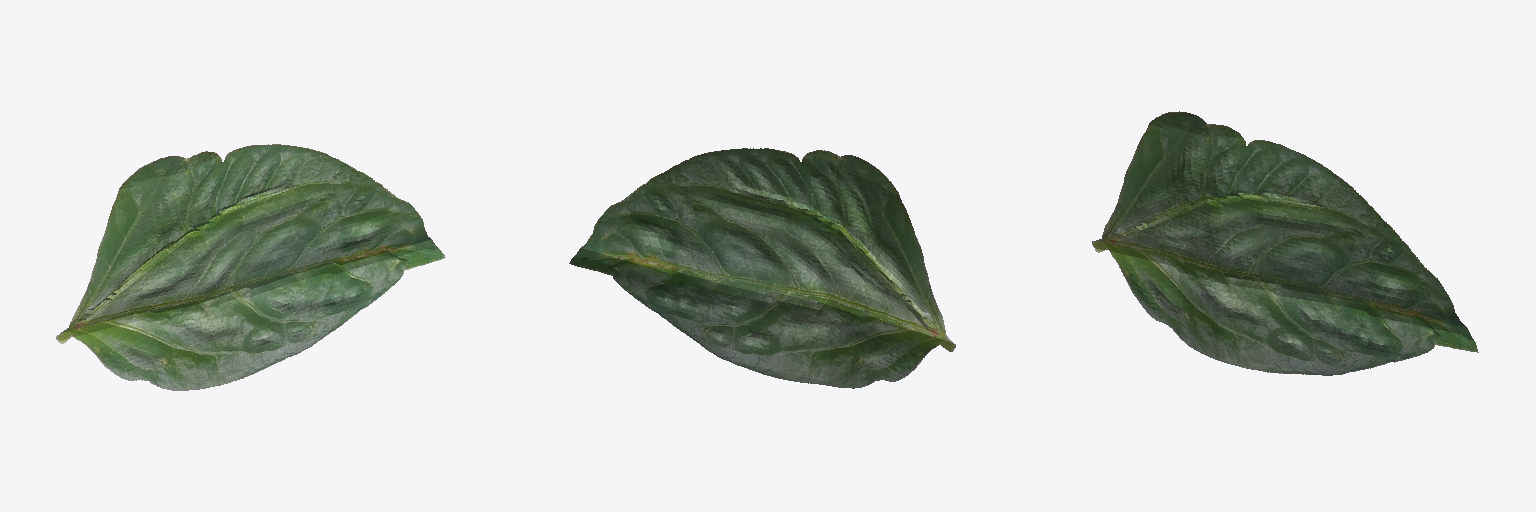
The picture shows the model from 3 angles: view 1: azimuth 30°, elevation 25°; view 2: azimuth 150°, elevation 25°; view 3: azimuth 330°, elevation 25°; orthographic projection.
Visible parts, largest first — view 1: leaf, veins; view 2: leaf, veins; view 3: leaf, veins.
Part boxes in pixels (bbox=[...]): leaf: bbox=[56, 144, 445, 390]; veins: bbox=[56, 222, 378, 341]; leaf: bbox=[569, 148, 955, 388]; veins: bbox=[636, 216, 955, 349]; leaf: bbox=[1092, 111, 1478, 375]; veins: bbox=[1092, 196, 1411, 313].
Size of the model in its own units: 2.01 by 1.21 by 0.1045.
1 materials, 1 textured.